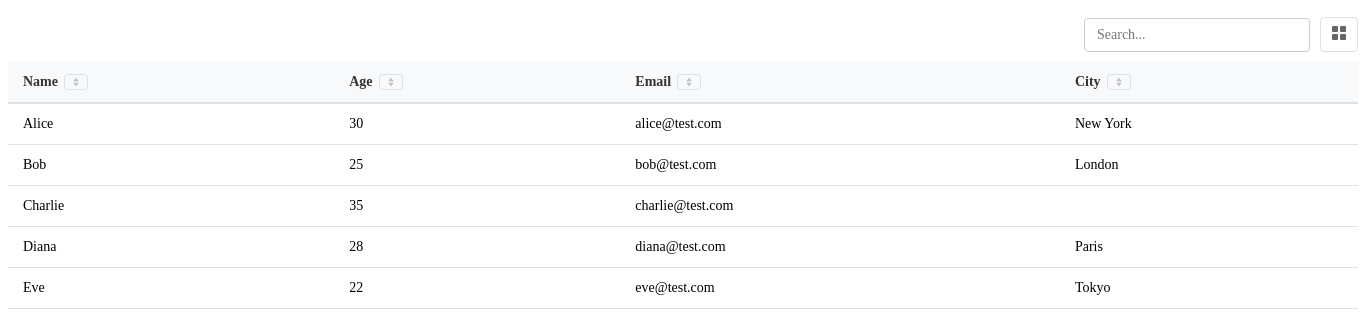
Scenario: Table Component › Searching › clears filter when search is emptied
Type "Alice" into the field named "Search table data".
click(1197, 34); type("Alice")  # box [1084, 18, 1310, 52]
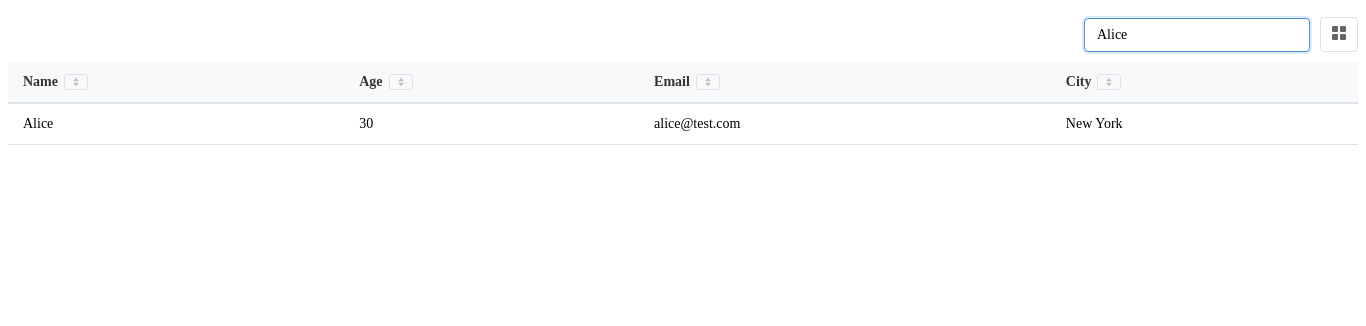
Expected: the text "Bob" is gone
Clear the field named "Search table data" at coordinates (1197, 34), box [1084, 18, 1310, 52]
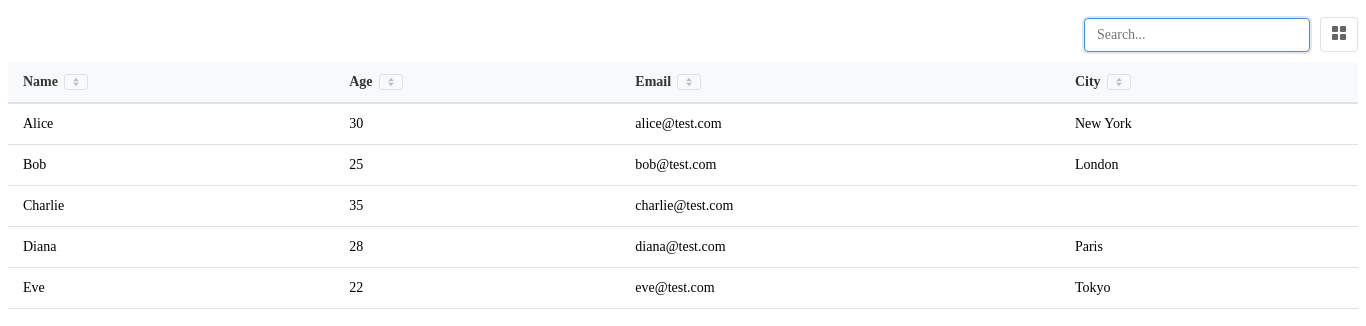
Expected: the text "Alice" is shown, [8, 103, 334, 144]
Expected: the text "Bob" is shown, [8, 144, 334, 186]
